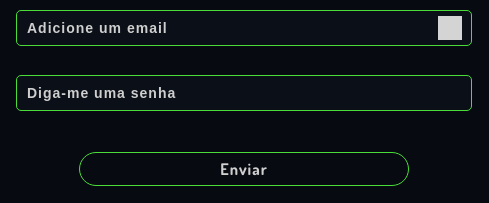
Test: Formkit Component › should display validation error messages correctly
Click the button "Enviar" at point(244, 169), box x1=79 y1=152 x2=409 y2=186
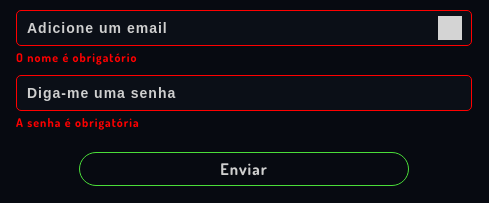
Now the text "O nome é obrigatório" is shown, box x1=16 y1=50 x2=138 y2=65
Now the text "A senha é obrigatória" is shown, box x1=16 y1=115 x2=140 y2=130
